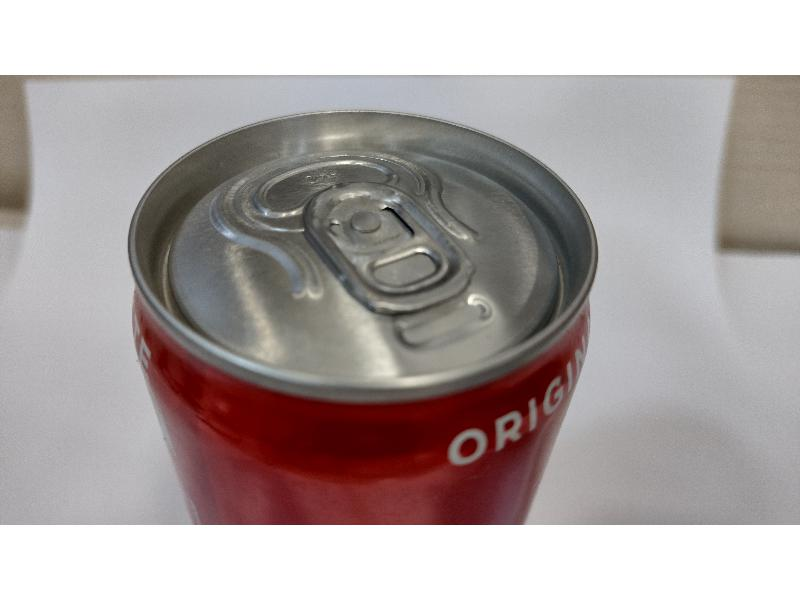can: (128, 107, 597, 522)
